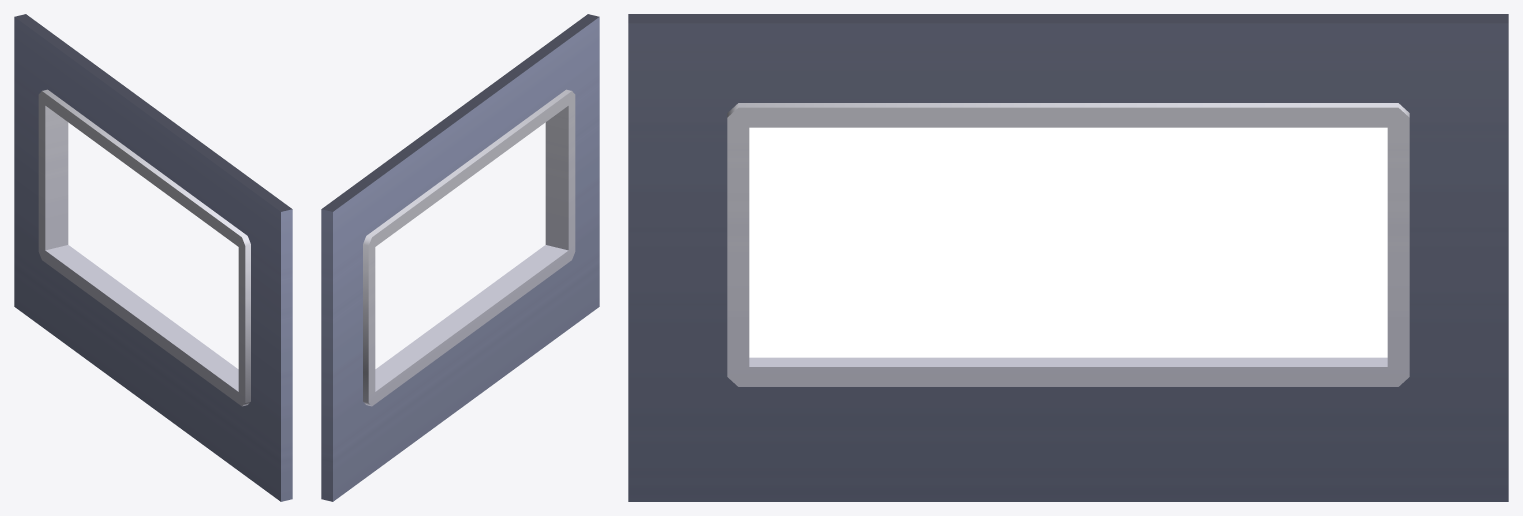
The model's file is building_wall_window_wide.glb.
3 views of the same model, side by side, from view 1: azimuth 30°, elevation 25°; view 2: azimuth 150°, elevation 25°; view 3: azimuth 270°, elevation 25° (orthographic). The views are drawn at different scales.
Visible parts, largest first — view 1: wall-window-wide-square; view 2: wall-window-wide-square; view 3: wall-window-wide-square, (%ignore).
Part boxes in pixels (box(x1,y1,x2,y2)): wall-window-wide-square: box(14, 14, 292, 501); wall-window-wide-square: box(321, 14, 599, 501); wall-window-wide-square: box(628, 14, 1508, 501); (%ignore): box(749, 127, 1387, 357).
Size of the model in its own units: 0.2 by 2.4 by 4.
2 materials, 1 textured.
